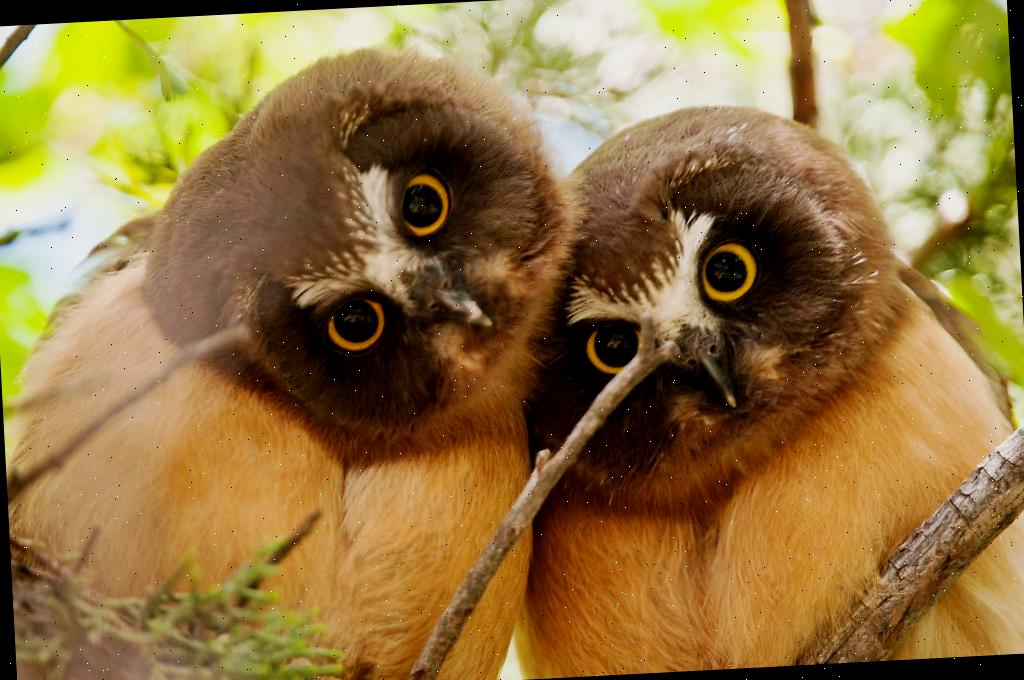Owl: (0, 37, 614, 680), (482, 86, 1024, 680)
